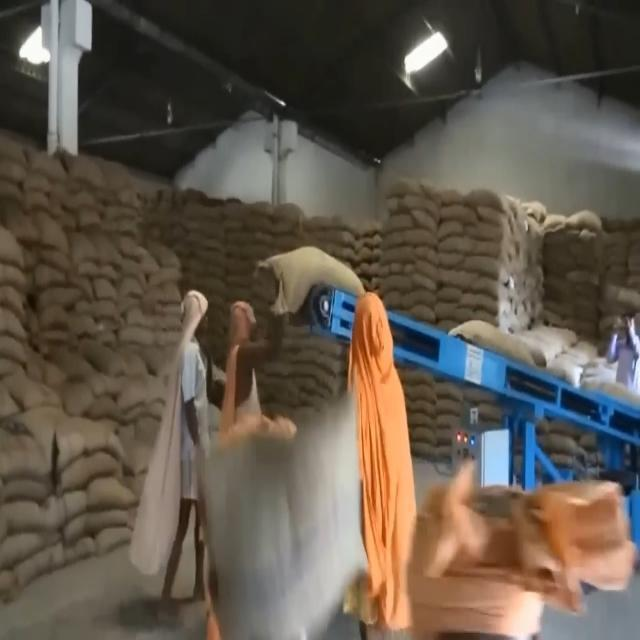gunny_bag: (448, 318, 578, 387), (262, 247, 361, 321), (48, 413, 132, 473), (55, 452, 124, 498), (0, 432, 55, 485), (62, 510, 134, 547), (0, 501, 59, 539), (3, 370, 57, 410), (0, 530, 48, 574), (86, 474, 140, 509), (83, 340, 130, 380), (36, 207, 72, 255), (25, 148, 69, 186), (63, 148, 104, 188), (36, 285, 88, 312), (464, 258, 512, 286), (59, 378, 96, 414), (61, 230, 97, 264), (471, 183, 512, 210), (470, 238, 510, 264), (0, 226, 25, 267), (436, 266, 476, 291), (384, 175, 427, 198), (0, 308, 28, 343), (0, 332, 27, 367), (0, 283, 28, 316), (566, 208, 604, 231), (407, 380, 440, 406), (273, 200, 306, 223), (401, 286, 434, 309), (0, 155, 26, 184), (119, 230, 142, 262), (379, 245, 416, 264), (377, 275, 412, 295), (144, 266, 178, 286), (412, 208, 439, 233), (315, 353, 344, 376), (378, 228, 408, 250), (114, 276, 144, 298), (410, 426, 440, 448), (439, 216, 466, 240), (412, 258, 438, 282), (410, 398, 438, 420), (0, 266, 27, 288), (416, 244, 438, 270), (410, 413, 438, 433), (288, 349, 320, 366), (415, 441, 438, 464), (386, 217, 418, 231), (305, 216, 333, 232)
